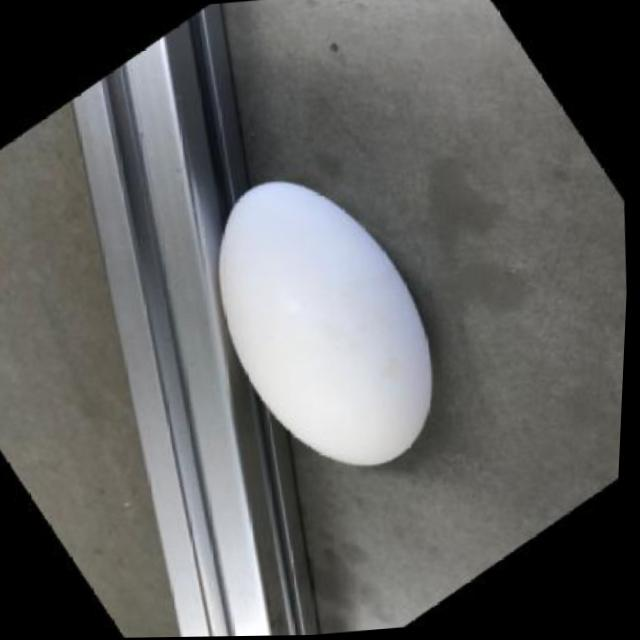egg: (202, 160, 457, 491)
